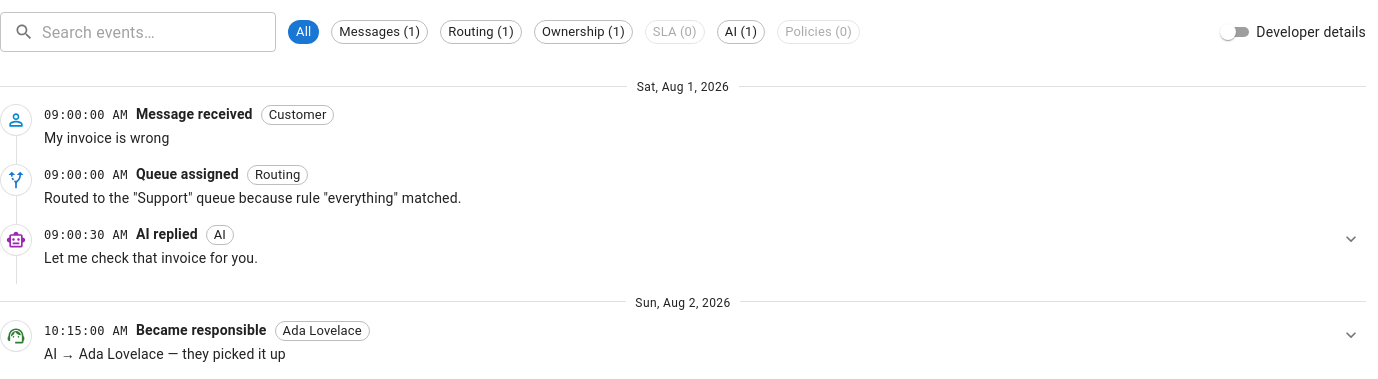
Test: ConversationTimeline › searches the whole story, not only the titles
The width and height of the screenshot is (1378, 379).
In the field labelled "Search events…": (159, 32) [42,12,276,52], type "threshold"
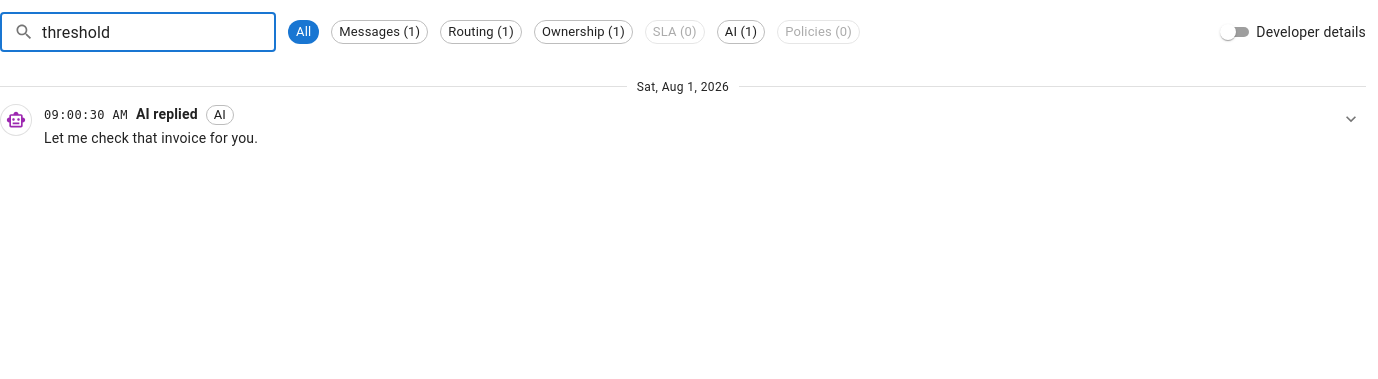
Expected: the text "AI replied" is shown, [136,104,198,124]
Result: the text "Queue assigned" is gone
